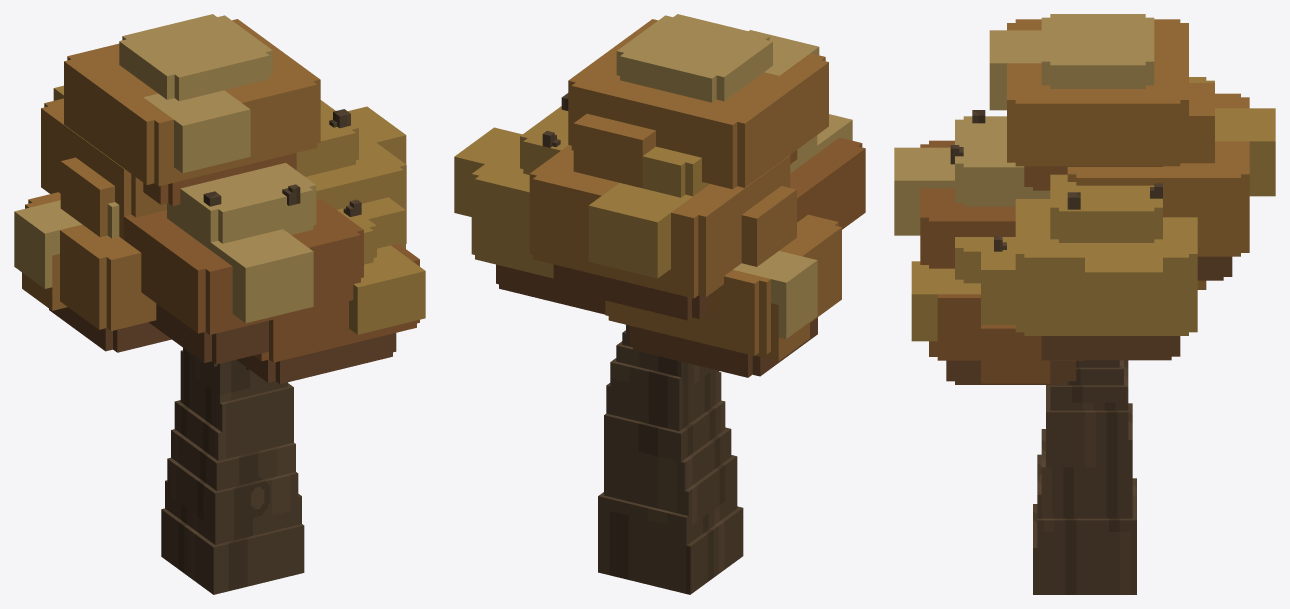
The model's file is oak_mature_autumn_3.glb.
3 views of the same model, side by side, from view 1: azimuth 30°, elevation 25°; view 2: azimuth 150°, elevation 25°; view 3: azimuth 270°, elevation 25° (orthographic). The views are drawn at different scales.
Visible parts, largest first — view 1: VoxelVisual; view 2: VoxelVisual; view 3: VoxelVisual.
Part boxes in pixels (x1,y1,x2,y2): VoxelVisual: [14, 14, 425, 594]; VoxelVisual: [454, 14, 865, 594]; VoxelVisual: [894, 14, 1275, 594].
Size of what is drawn, in the model's own units: 11.25 by 16.5 by 11.
